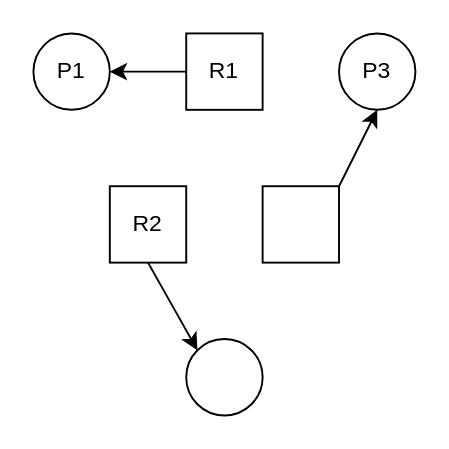
Some shapes in this 449 by 449 pixel diagram are drawn without their labels. The shapes that lost their labels are listed below. From the top down, each one's box as (x1, y1, x2, y2) in pixels, then its label:
(261, 184, 339, 263): R3
(184, 337, 263, 415): P2
